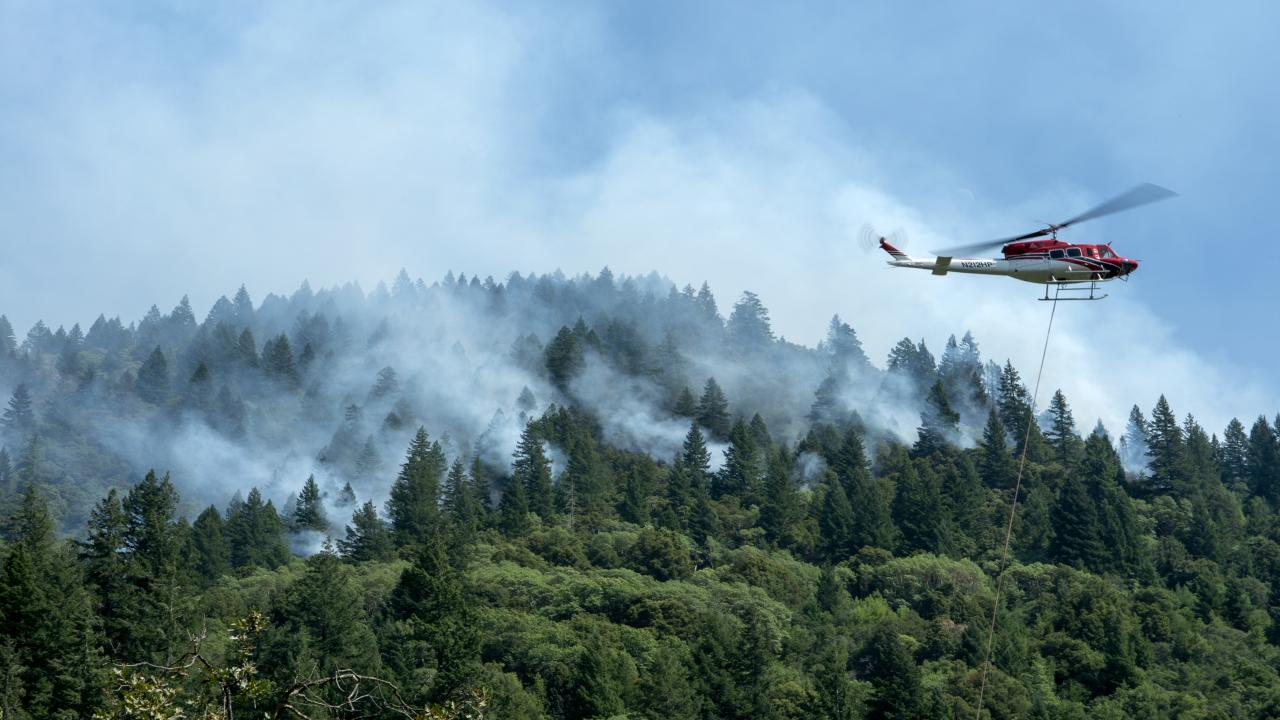Helicopter: (848, 173, 1192, 324)
